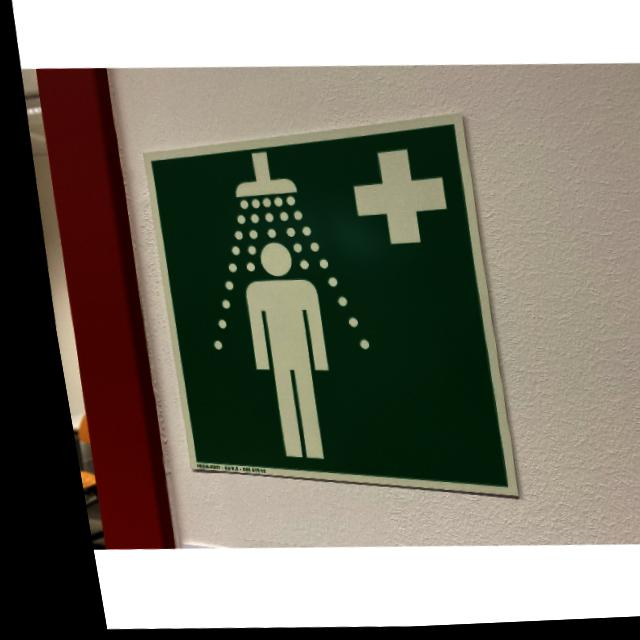shower: (119, 105, 512, 511)
